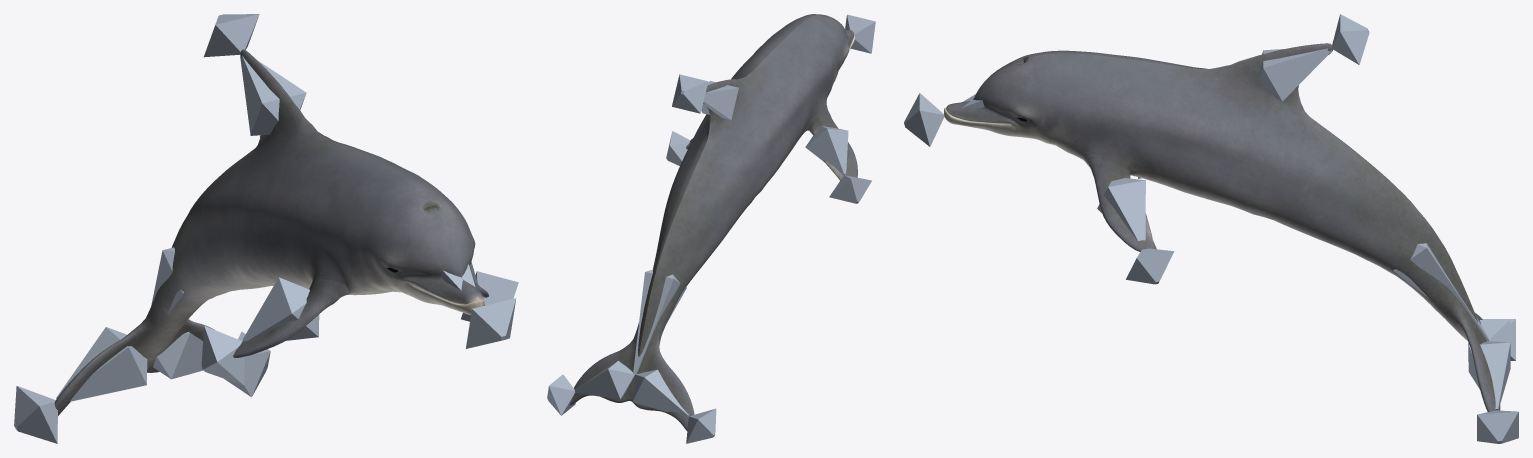
The model's file is Delfin.obj.
3 views of the same model, side by side, from view 1: azimuth 30°, elevation 25°; view 2: azimuth 150°, elevation 25°; view 3: azimuth 270°, elevation 25° (orthographic). The views are drawn at different scales.
Parts seen in each view (by area): view 1: Dolphin, Bone029, Bone027, Bone021, Bone030, Bone028, Bone024, Bone022, Bone031, Bone026, Bone032, Bone010; view 2: Dolphin, Bone029, Bone027, Bone031, Bone010, Bone022, Bone021, Bone024, Bone030, Bone028, Bone032, Bone026; view 3: Dolphin, Bone021, Bone025, Bone031, Bone032, Bone024, Bone022, Bone010, Bone026, Bone029.
Part boxes in pixels (bbox=[...]): Dolphin: bbox=[54, 49, 488, 415]; Bone029: bbox=[56, 327, 147, 401]; Bone027: bbox=[243, 277, 319, 341]; Bone021: bbox=[240, 55, 306, 135]; Bone030: bbox=[14, 386, 57, 443]; Bone028: bbox=[201, 325, 244, 385]; Bone024: bbox=[466, 298, 516, 348]; Bone022: bbox=[204, 14, 259, 57]; Bone031: bbox=[153, 332, 203, 379]; Bone026: bbox=[461, 271, 518, 321]; Bone032: bbox=[224, 331, 270, 397]; Bone010: bbox=[151, 247, 183, 313]; Dolphin: bbox=[570, 14, 857, 430]; Bone029: bbox=[632, 369, 688, 416]; Bone027: bbox=[805, 126, 848, 174]; Bone031: bbox=[574, 360, 634, 399]; Bone010: bbox=[633, 269, 686, 374]; Bone022: bbox=[672, 74, 708, 113]; Bone021: bbox=[701, 81, 738, 119]; Bone024: bbox=[845, 14, 875, 53]; Bone030: bbox=[686, 408, 716, 443]; Bone028: bbox=[829, 175, 871, 203]; Bone032: bbox=[547, 374, 575, 415]; Bone026: bbox=[666, 131, 690, 165]; Dolphin: bbox=[944, 43, 1500, 411]; Bone021: bbox=[1258, 48, 1331, 101]; Bone025: bbox=[1097, 178, 1145, 240]; Bone031: bbox=[1468, 341, 1510, 410]; Bone032: bbox=[1477, 410, 1518, 443]; Bone024: bbox=[904, 93, 944, 146]; Bone022: bbox=[1332, 14, 1369, 64]; Bone010: bbox=[1393, 243, 1489, 341]; Bone026: bbox=[1126, 248, 1174, 284]; Bone029: bbox=[1468, 320, 1509, 361].
Bounding box in the file's own units: 4.12 × 6 × 8.81.
2 materials, 1 textured.
